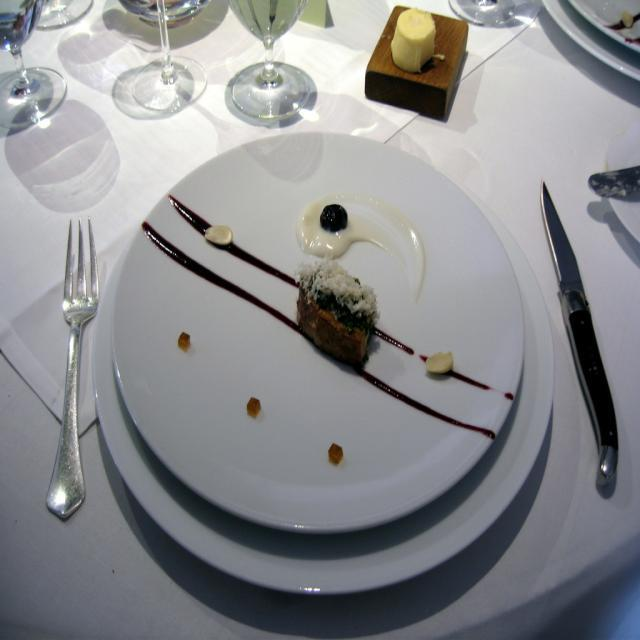Knife: (542, 182, 619, 498)
